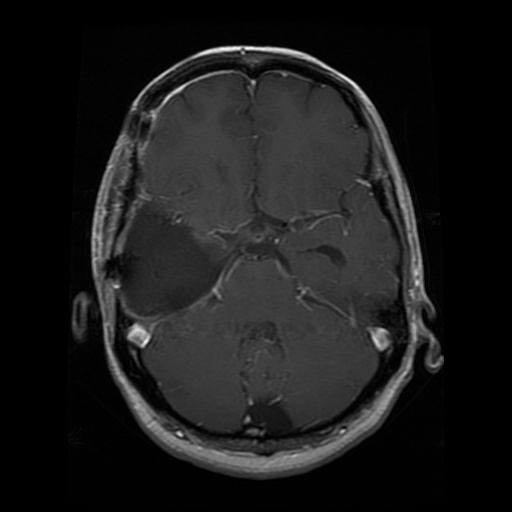glioma: (121, 203, 222, 319)
